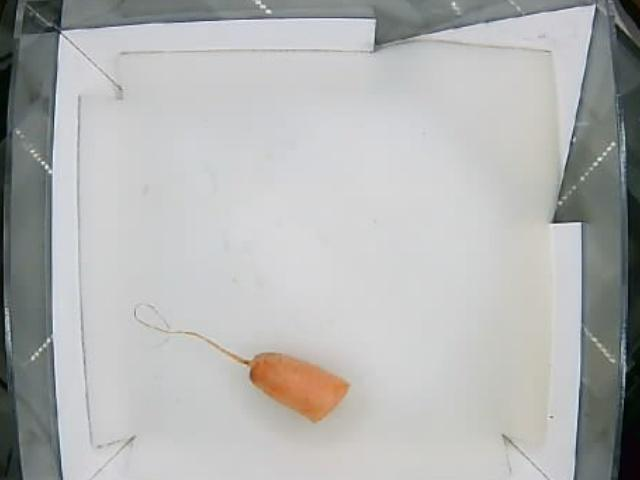Carrot: (240, 349, 349, 420)
